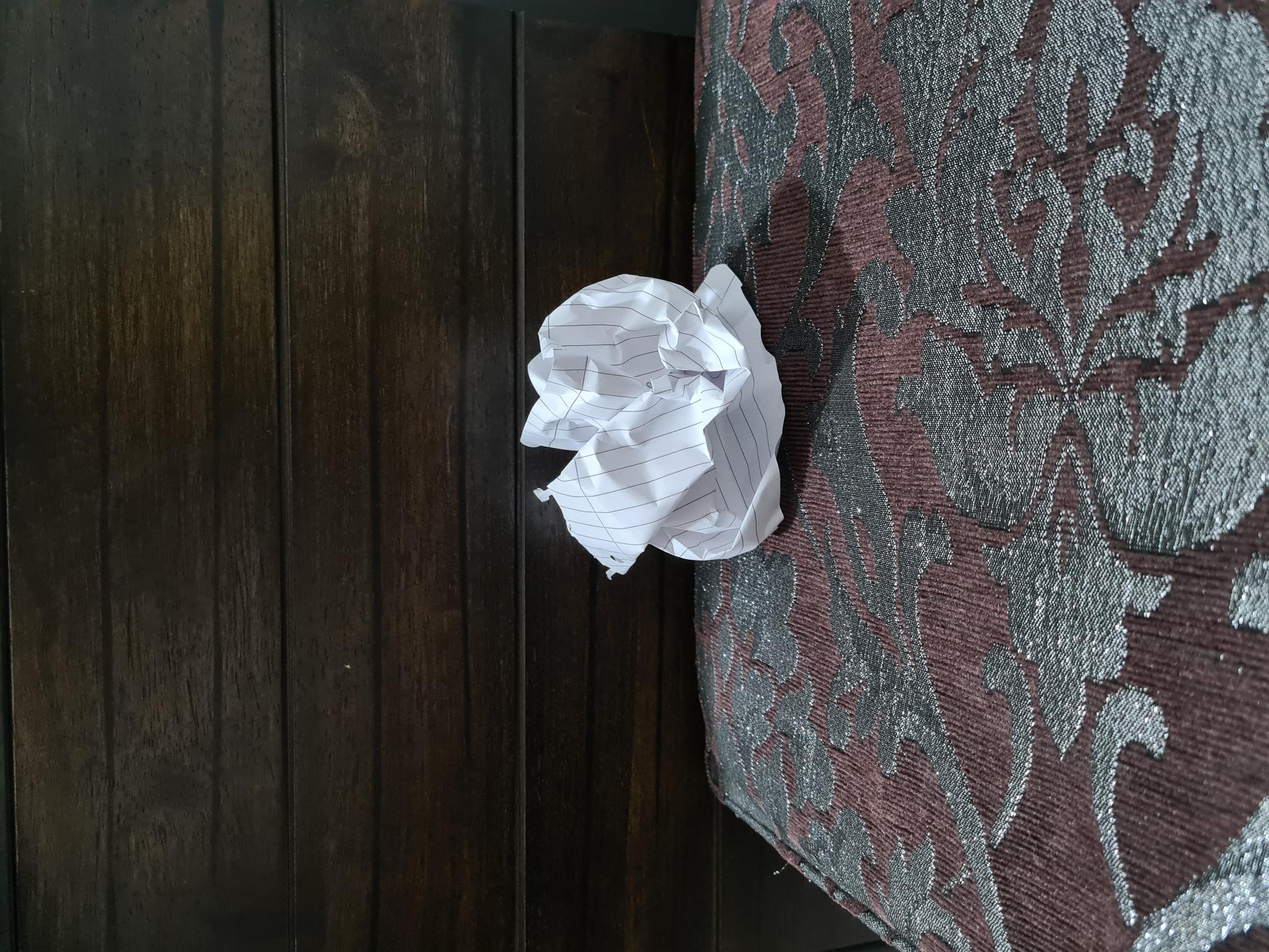Kertas: (372, 533, 700, 791), (375, 522, 687, 785)
